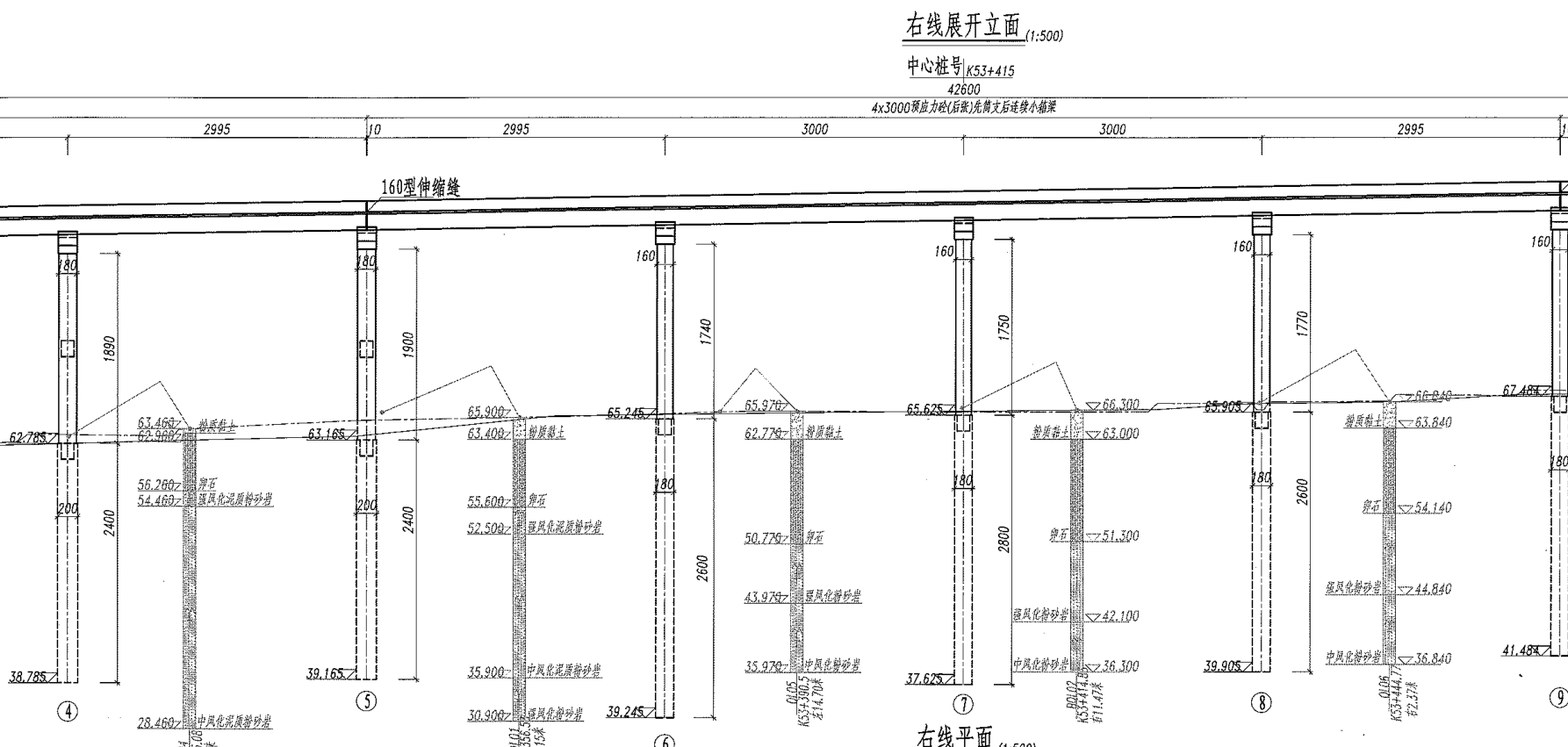A: (1, 81, 1568, 105)
B: (356, 99, 1568, 124)
C: (299, 225, 395, 716), (1194, 207, 1280, 730), (899, 208, 986, 715), (613, 220, 693, 747), (1, 226, 83, 728), (1499, 200, 1568, 711)
